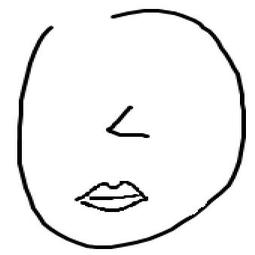cupid_mouth: (75, 173, 157, 212)
pointy_nose: (100, 91, 148, 143)
